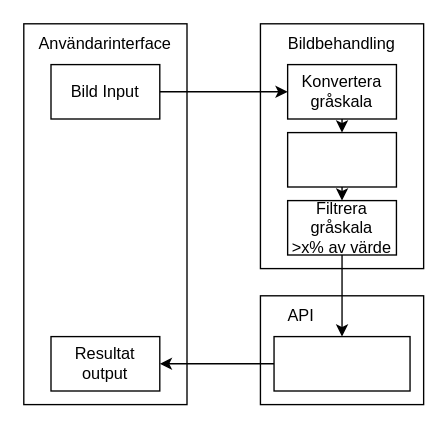
Image size: 447x428. Some labels were removed from this diagram. Each missing label, with the centre of its shape:
Beskär: (x=341, y=159)
ML-Modell: (x=341, y=363)
